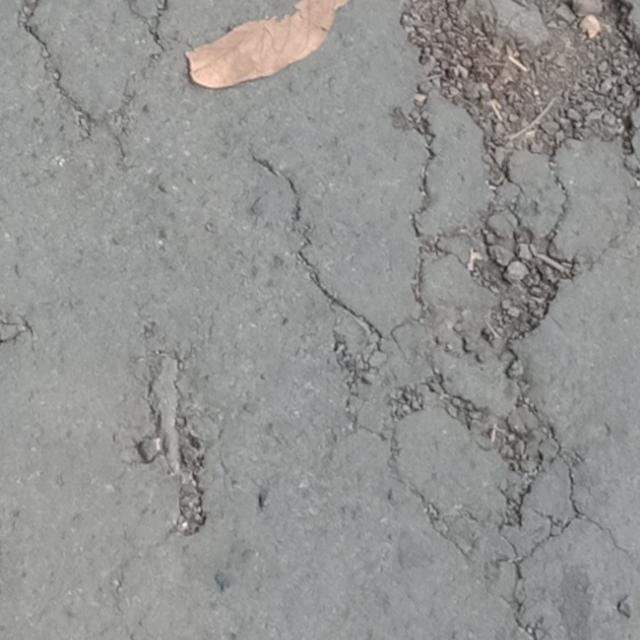lubang_kecil: (54, 0, 640, 215)
